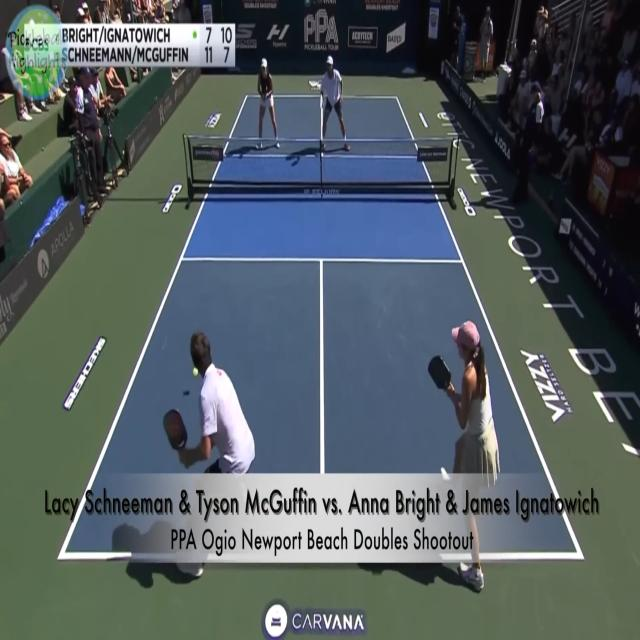ball: (190, 363, 201, 381)
